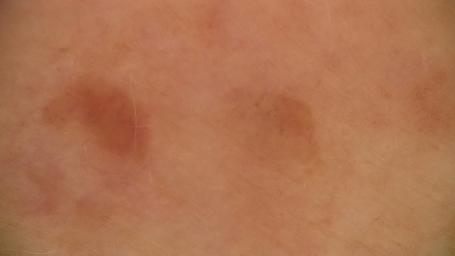melanoma: (41, 82, 149, 164), (236, 95, 320, 167)
